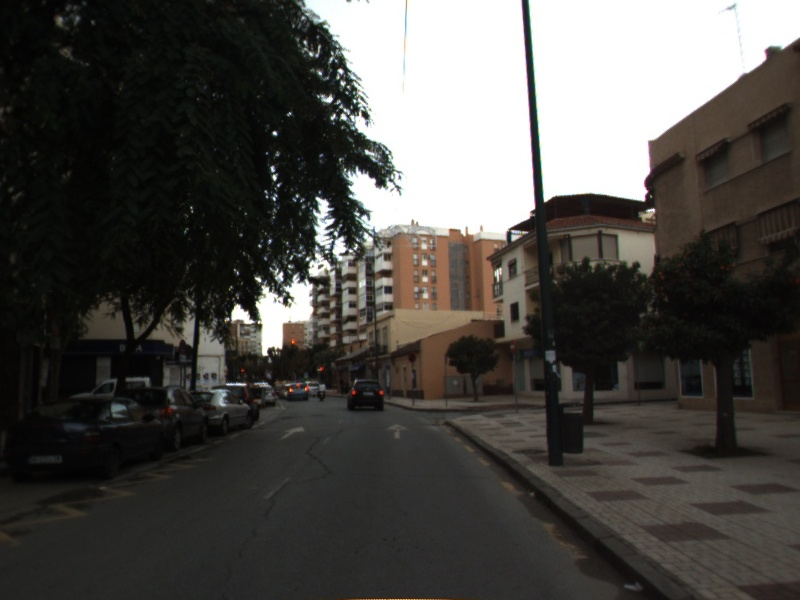STRAIGHT: (384, 421, 412, 441), (278, 424, 307, 442)
